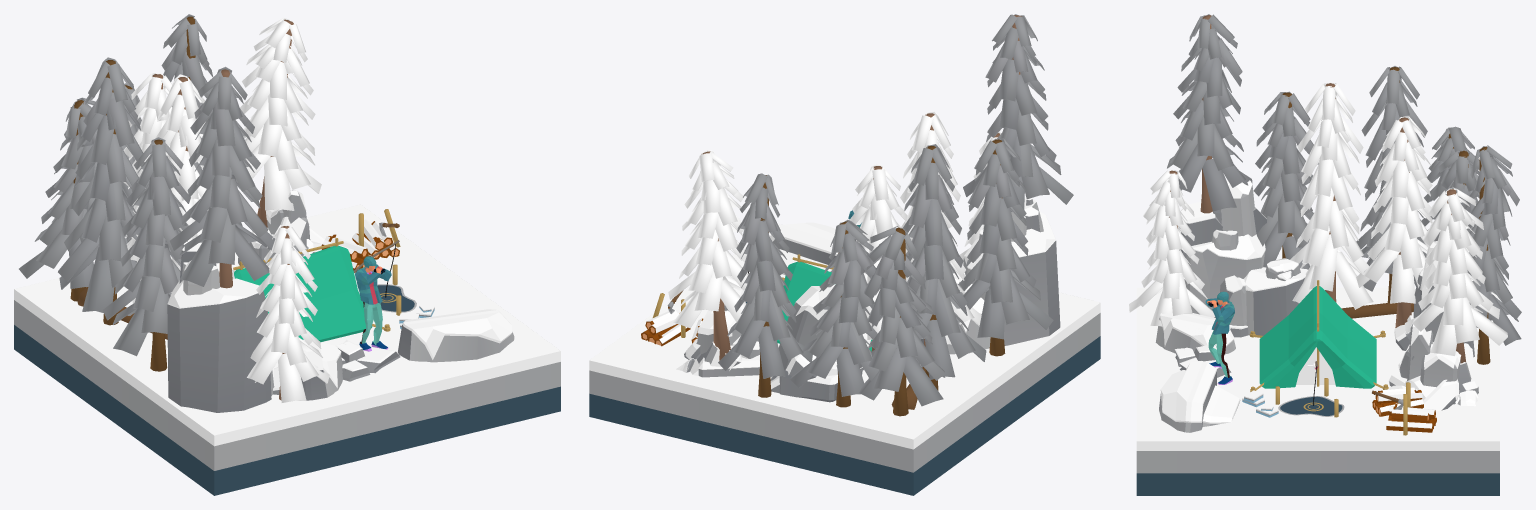
File: wld3.glb
3 renders of one model, left to right at view 1: azimuth 30°, elevation 25°; view 2: azimuth 150°, elevation 25°; view 3: azimuth 270°, elevation 25°, orthographic. The views are drawn at different scales.
Visible parts, largest first — view 1: Snow; view 2: Snow; view 3: Snow.
Part boxes in pixels (left/top/right/bottom): Snow: left=14, top=14, right=560, bottom=495; Snow: left=589, top=14, right=1100, bottom=495; Snow: left=1129, top=14, right=1521, bottom=495.
Size of the model in its own units: 7.33 by 7.34 by 7.46.
3 materials, 3 textured.
